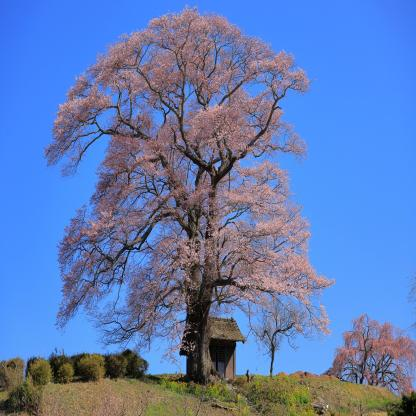EdohiganSakura: (41, 3, 336, 383), (325, 314, 415, 399)
